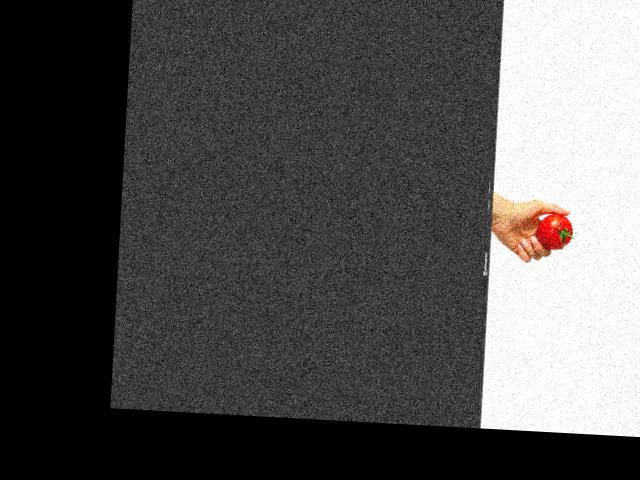tomato: (535, 212, 574, 249)
